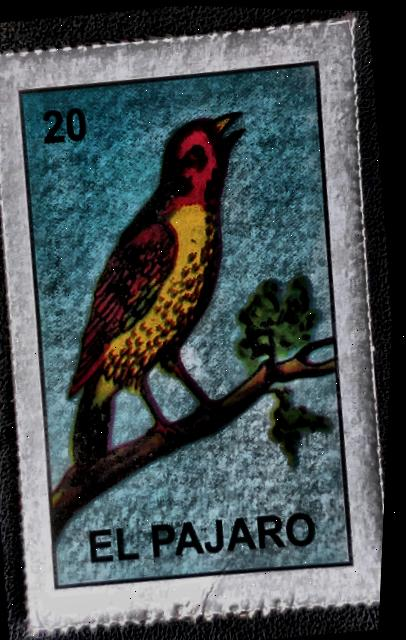El Pajaro: (0, 33, 391, 613)
